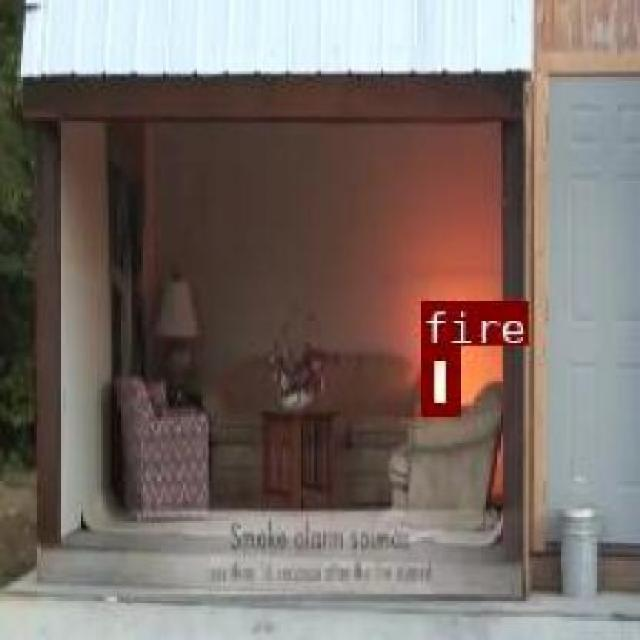Fire: (420, 344, 454, 412)
